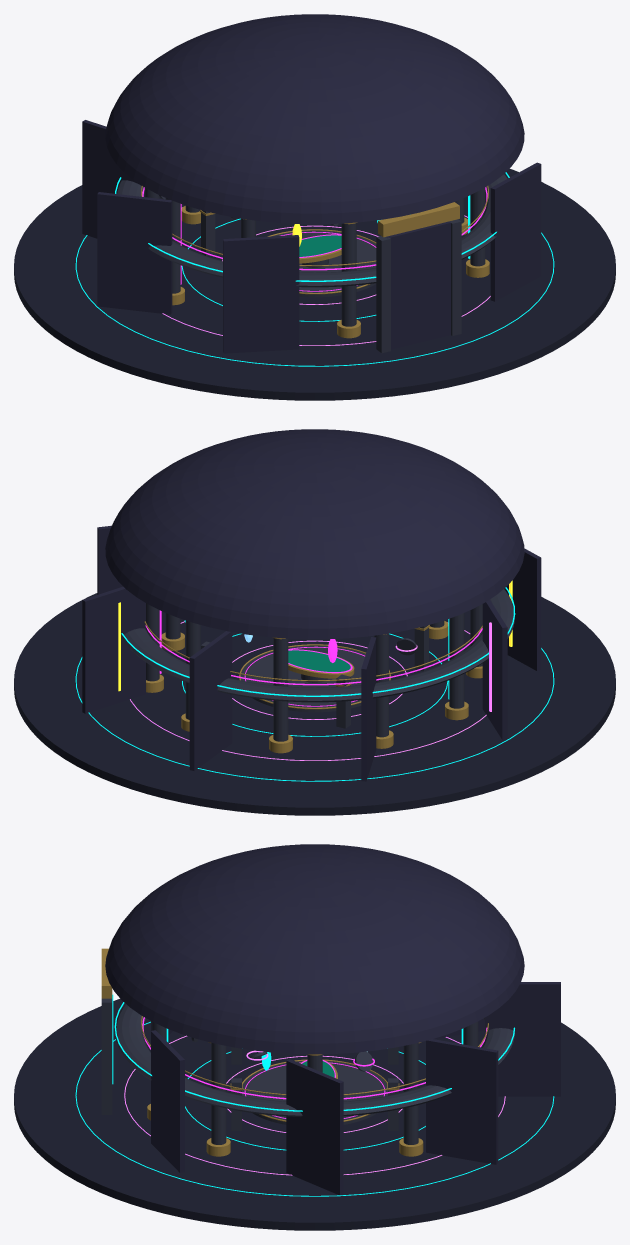
The model's file is casino.glb.
3 views of the same model, one above another, from view 1: azimuth 30°, elevation 25°; view 2: azimuth 150°, elevation 25°; view 3: azimuth 270°, elevation 25° (orthographic).
Parts seen in each view (by area): view 1: Dome, FloorMain, WallPanel_02, WallPanel_11, WallPanel_04, WallPanel_13, WallPanel_03, Balcony, WallPanel_09, EntrancePillar_-4.6, Dais, EntranceArch (+7 smaller); view 2: Dome, FloorMain, WallPanel_15, Balcony, WallPanel_00, WallPanel_03, WallPanel_10, Dais, Column_3, WallPanel_09, Column_4, Column_5 (+11 smaller); view 3: Dome, FloorMain, WallPanel_07, WallPanel_00, WallPanel_06, Balcony, WallPanel_13, Dais, EntrancePillar_4.6, Column_1, Column_9, FloorInlay_4 (+3 smaller).
Part boxes in pixels (x1=…): Dome: x1=105, y1=14, x2=524, y2=224; FloorMain: x1=14, y1=168, x2=615, y2=400; WallPanel_02: x1=97, y1=192, x2=172, y2=314; WallPanel_11: x1=223, y1=235, x2=299, y2=353; WallPanel_04: x1=386, y1=221, x2=450, y2=349; WallPanel_13: x1=490, y1=162, x2=541, y2=301; WallPanel_03: x1=223, y1=235, x2=299, y2=352; Balcony: x1=116, y1=174, x2=507, y2=287; WallPanel_09: x1=82, y1=120, x2=144, y2=238; EntrancePillar_-4.6: x1=376, y1=236, x2=390, y2=353; Dais: x1=272, y1=230, x2=376, y2=297; EntranceArch: x1=378, y1=202, x2=459, y2=237; Dome: x1=105, y1=429, x2=524, y2=639; FloorMain: x1=14, y1=593, x2=615, y2=815; WallPanel_15: x1=82, y1=586, x2=145, y2=713; Balcony: x1=122, y1=589, x2=514, y2=702; WallPanel_00: x1=189, y1=631, x2=232, y2=770; WallPanel_03: x1=504, y1=549, x2=541, y2=670; WallPanel_10: x1=482, y1=602, x2=507, y2=740; Dais: x1=240, y1=645, x2=389, y2=712; Column_3: x1=273, y1=638, x2=288, y2=741; WallPanel_09: x1=364, y1=637, x2=376, y2=780; Column_4: x1=374, y1=633, x2=388, y2=737; Column_5: x1=449, y1=613, x2=464, y2=708; Dome: x1=105, y1=844, x2=524, y2=1054; FloorMain: x1=14, y1=998, x2=615, y2=1230; WallPanel_07: x1=426, y1=1039, x2=497, y2=1164; WallPanel_00: x1=485, y1=982, x2=560, y2=1096; WallPanel_06: x1=286, y1=1059, x2=343, y2=1195; Balcony: x1=115, y1=1004, x2=514, y2=1116; WallPanel_13: x1=151, y1=1031, x2=184, y2=1172; Dais: x1=242, y1=1061, x2=387, y2=1124; EntrancePillar_4.6: x1=101, y1=998, x2=112, y2=1114; Column_1: x1=403, y1=1043, x2=418, y2=1144; Column_9: x1=211, y1=1043, x2=226, y2=1144; FloorInlay_4: x1=75, y1=1021, x2=554, y2=1196.
Size of the model in its own units: 68 by 28 by 68.
